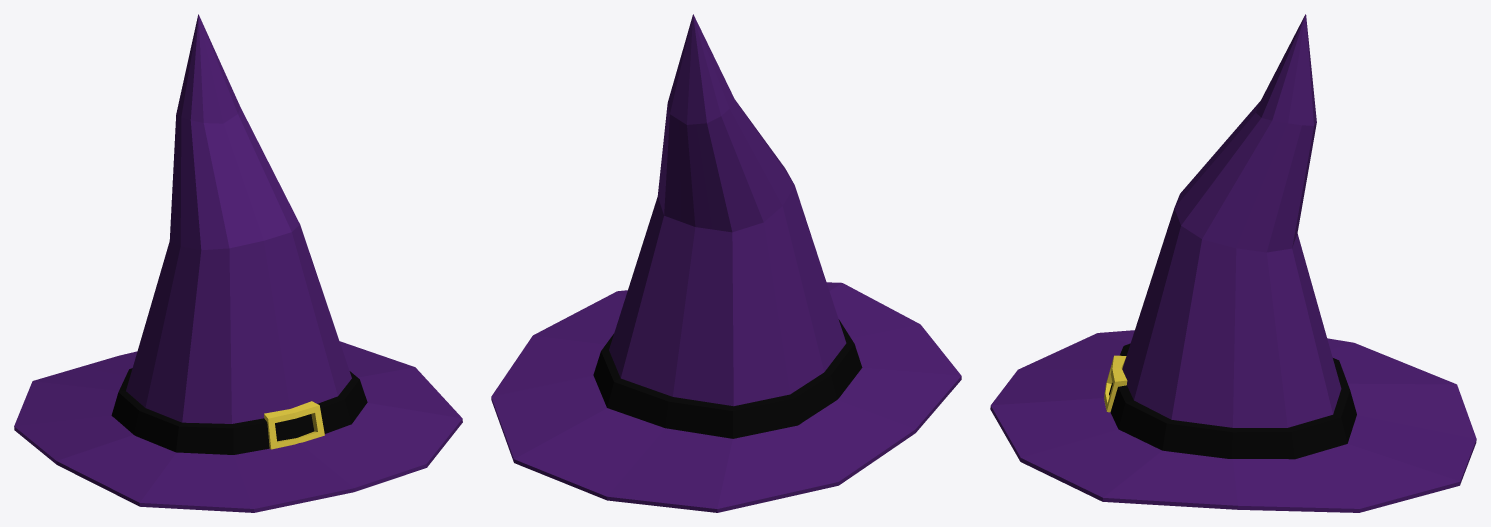
Rendered from HatPrefab.fbx.
3 renders of one model, left to right at view 1: azimuth 30°, elevation 25°; view 2: azimuth 150°, elevation 25°; view 3: azimuth 270°, elevation 25°, orthographic. The views are drawn at different scales.
Visible parts, largest first — view 1: Cube.003; view 2: Cube.003; view 3: Cube.003.
Boxes of the visible parts, left/top/right/bottom form: Cube.003: left=14, top=14, right=462, bottom=512; Cube.003: left=491, top=14, right=961, bottom=512; Cube.003: left=990, top=14, right=1476, bottom=512.
Bounding box in the file's own units: 310 × 332 × 341.
